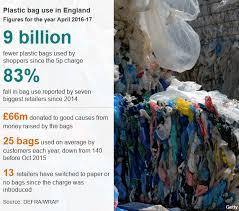Plastic bag: (123, 0, 220, 67)
